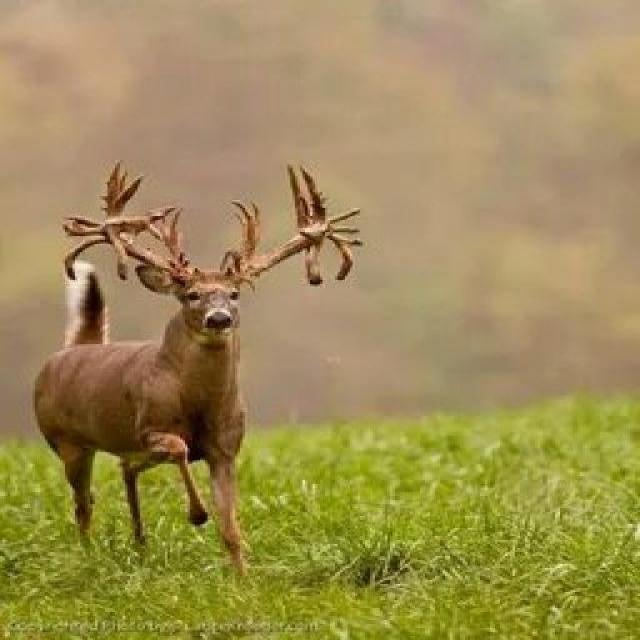deer: (25, 165, 407, 536)
